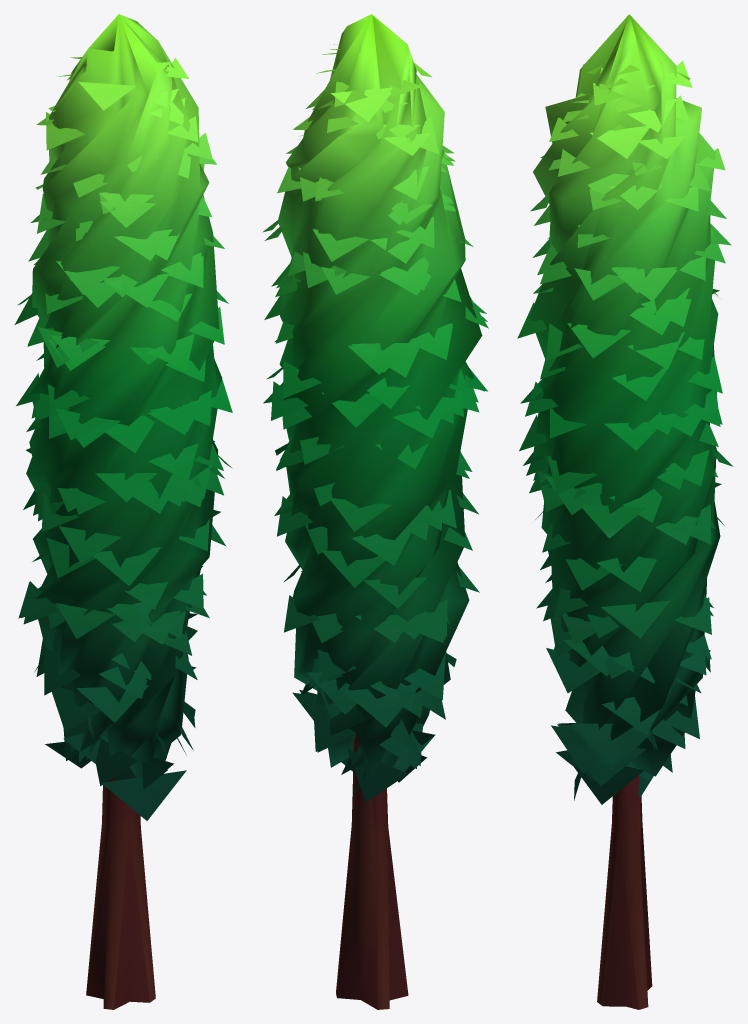
File: Tree_5D.fbx
The picture shows the model from 3 angles, left to right: view 1: azimuth 30°, elevation 25°; view 2: azimuth 150°, elevation 25°; view 3: azimuth 270°, elevation 25°; orthographic projection.
Visible parts, largest first — view 1: Tree_5D; view 2: Tree_5D; view 3: Tree_5D.
Boxes of the visible parts, <box> form: Tree_5D: <box>14,14,232,1009</box>; Tree_5D: <box>262,14,488,1009</box>; Tree_5D: <box>517,14,733,1009</box>.
Bounding box in the file's own units: 132 × 634 × 127.
